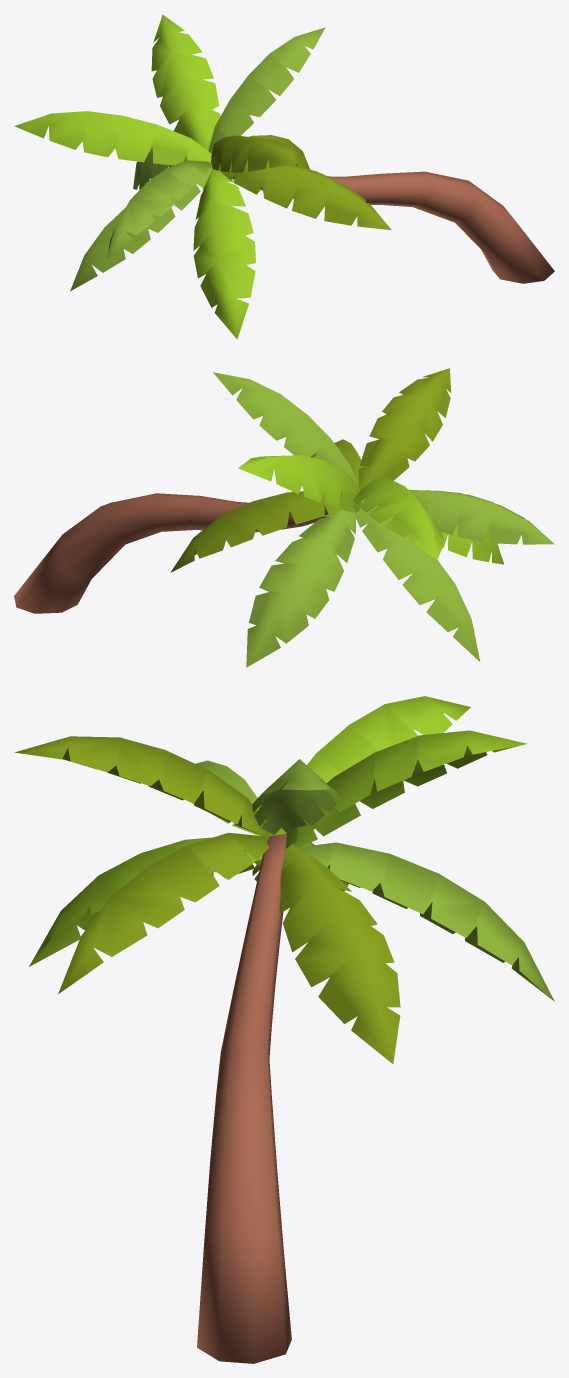
The model's file is Palm_Lime_3.fbx.
The picture shows the model from 3 angles, top to bottom: view 1: azimuth 30°, elevation 25°; view 2: azimuth 150°, elevation 25°; view 3: azimuth 270°, elevation 25°; orthographic projection. The views are drawn at different scales.
Parts seen in each view (by area): view 1: Cube_132, Plane_168, Plane_173, Plane_170, Plane_169, Plane_167, Plane_165, Plane_171, Plane_172, Plane_166, Plane_164; view 2: Cube_132, Plane_166, Plane_172, Plane_171, Plane_164, Plane_167, Plane_165, Plane_170, Plane_173, Plane_168, Plane_169; view 3: Cube_132, Plane_164, Plane_169, Plane_166, Plane_170, Plane_172, Plane_173, Plane_168, Plane_167, Plane_165.
Boxes of the visible parts, x1,y1,x2,y2 form: Cube_132: (212, 165, 554, 283); Plane_168: (193, 168, 255, 339); Plane_173: (14, 111, 211, 165); Plane_170: (151, 14, 220, 170); Plane_169: (212, 159, 391, 230); Plane_167: (208, 27, 325, 153); Plane_165: (107, 160, 211, 259); Plane_171: (70, 167, 211, 291); Plane_172: (211, 135, 296, 172); Plane_166: (133, 146, 186, 189); Plane_164: (249, 135, 309, 169); Cube_132: (14, 493, 354, 613); Plane_166: (246, 508, 356, 667); Plane_172: (358, 368, 451, 489); Plane_171: (354, 503, 480, 661); Plane_164: (170, 491, 363, 572); Plane_167: (213, 372, 359, 491); Plane_165: (378, 489, 554, 544); Plane_170: (238, 455, 361, 512); Plane_173: (353, 478, 443, 559); Plane_168: (361, 498, 504, 564); Plane_169: (311, 439, 365, 485); Cube_132: (197, 834, 291, 1363); Plane_164: (279, 844, 400, 1063); Plane_169: (58, 832, 268, 994); Plane_166: (298, 842, 554, 1001); Plane_170: (285, 730, 527, 848); Plane_172: (14, 736, 269, 837); Plane_173: (266, 696, 470, 840); Plane_168: (29, 837, 262, 966); Plane_167: (252, 759, 340, 835); Plane_165: (190, 760, 267, 835).
Bounding box in the file's own units: 816 × 448 × 523.
